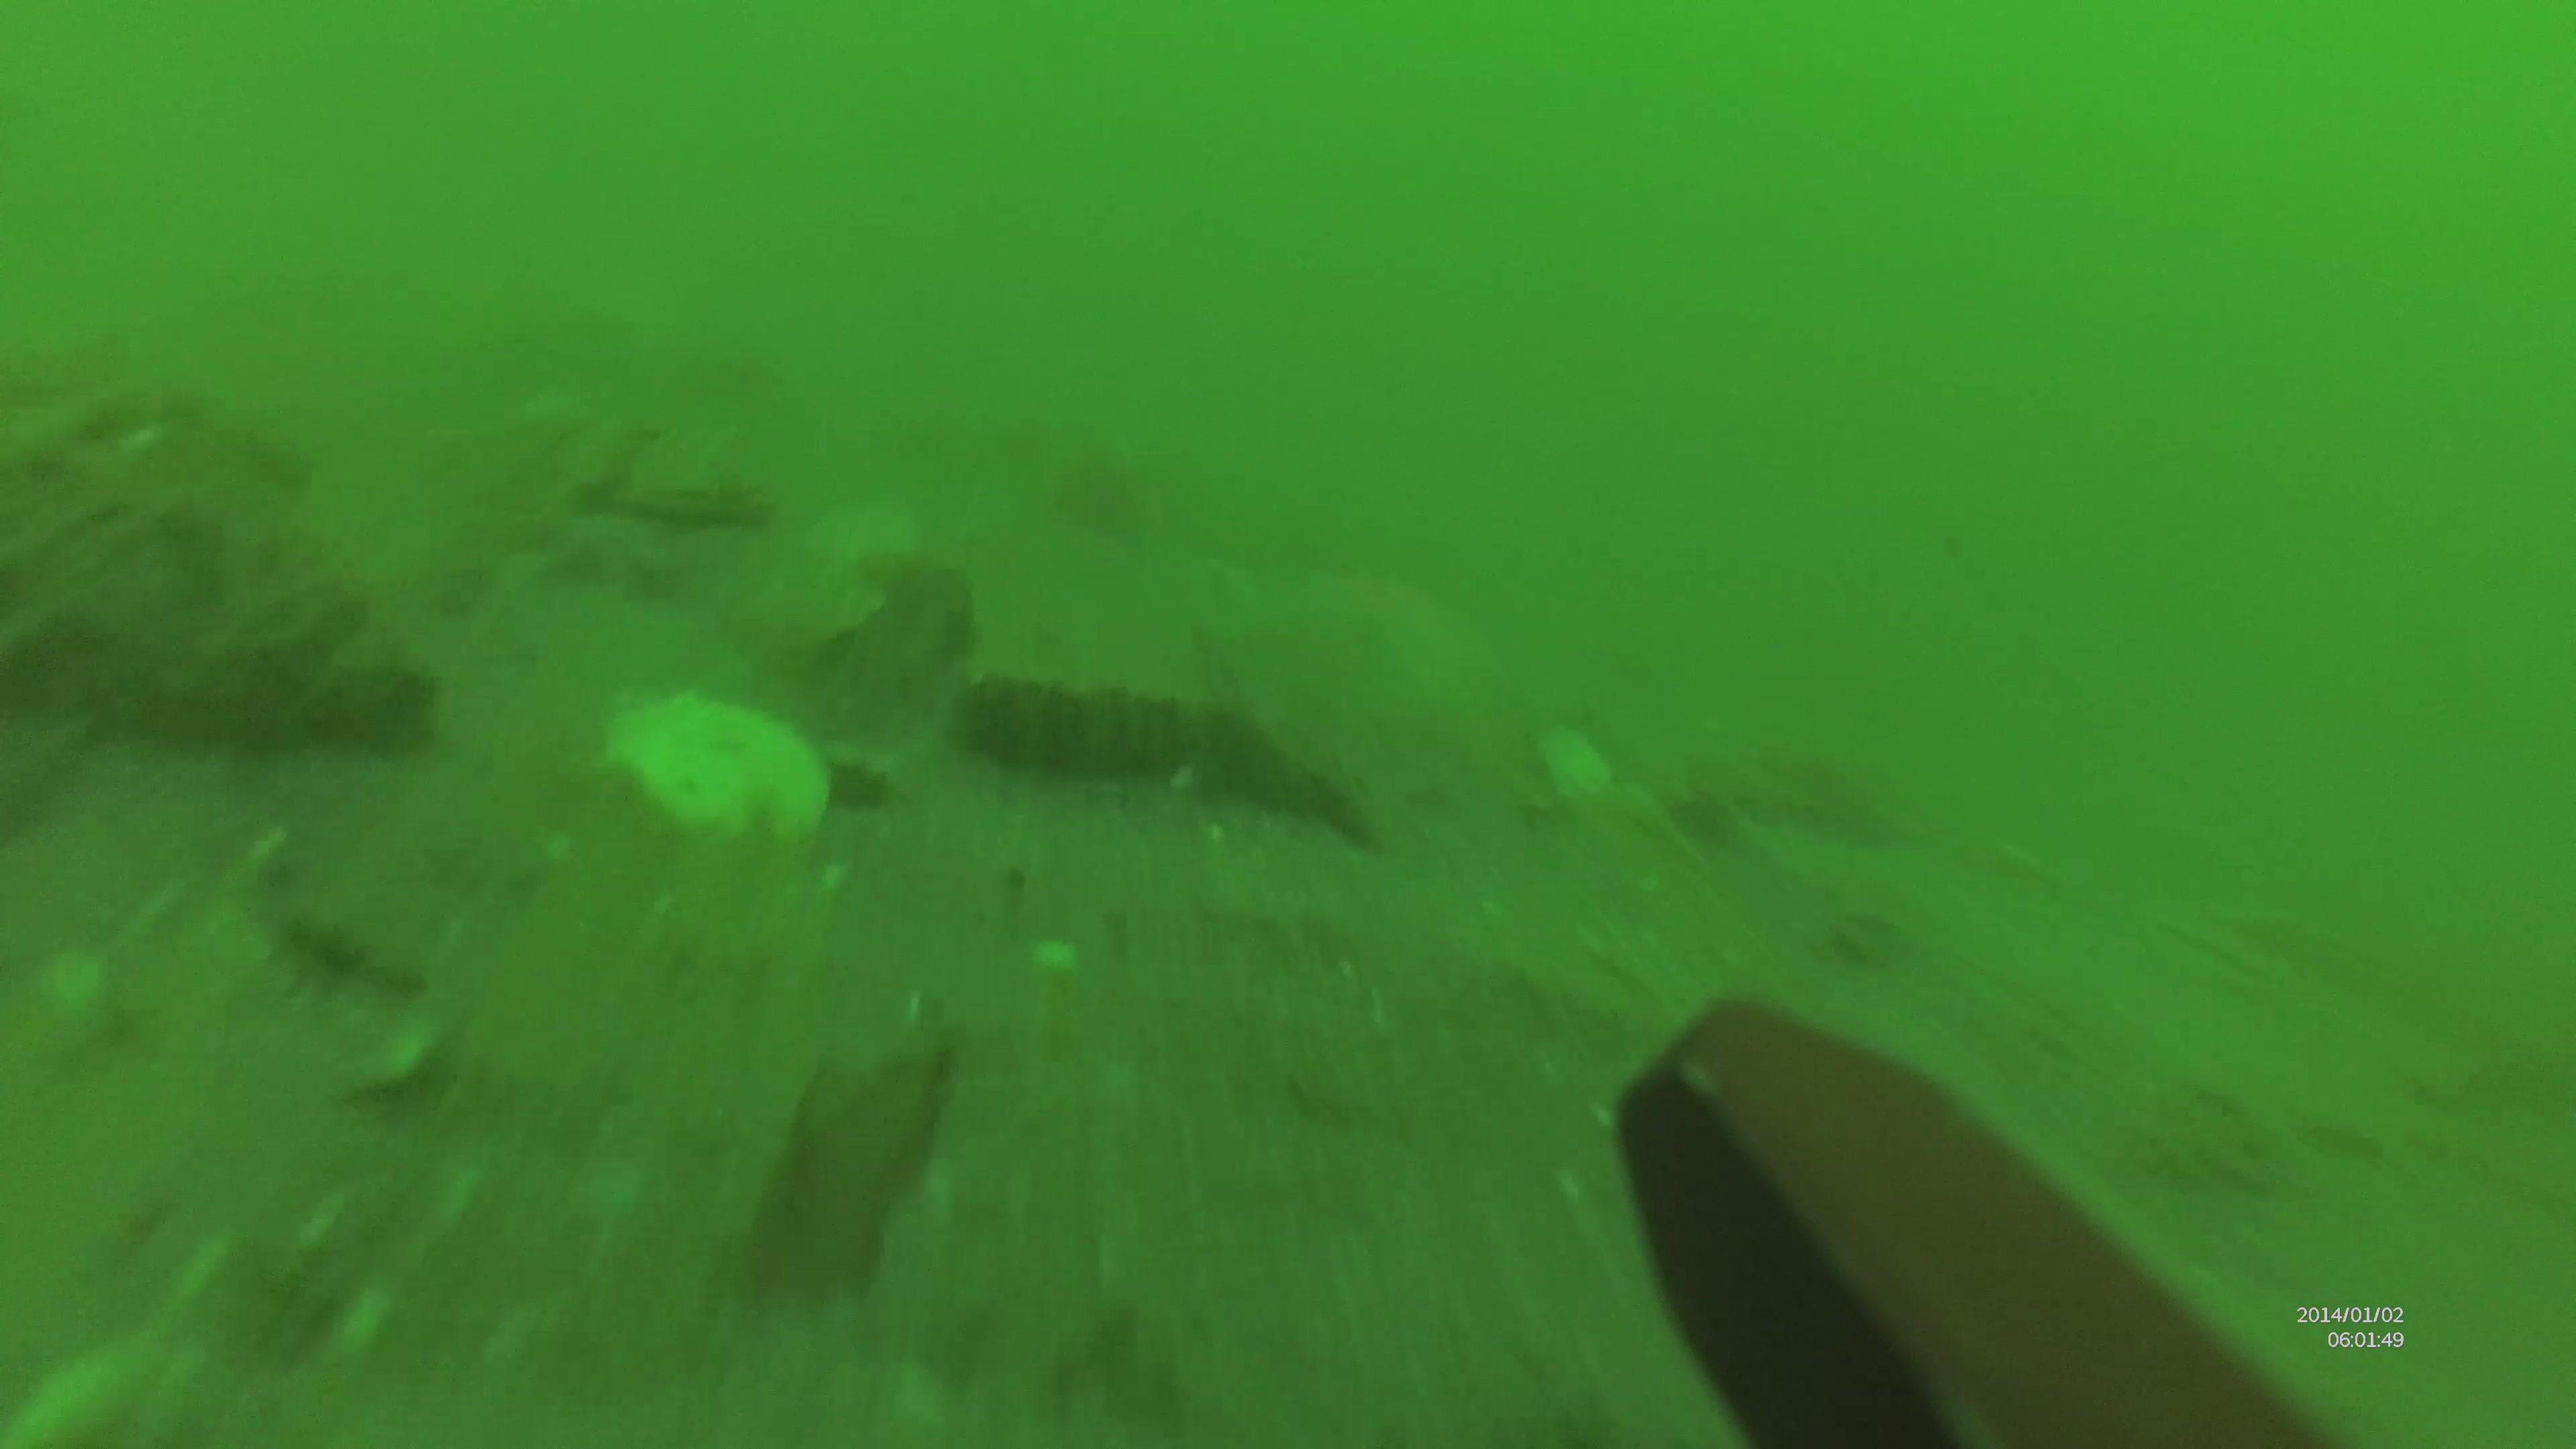scallop: (598, 688, 832, 840)
